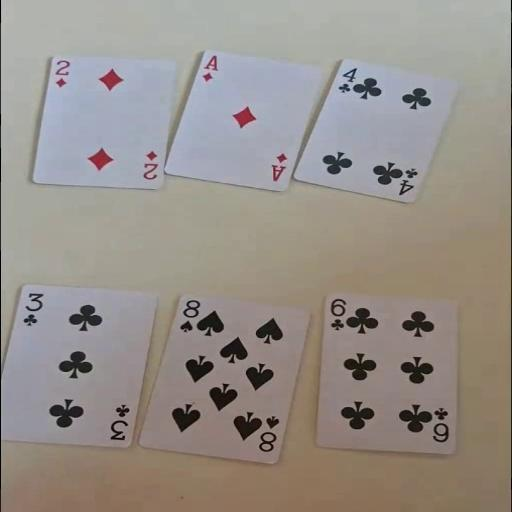2: (140, 148, 159, 180), (52, 58, 71, 88)
3: (107, 402, 131, 441), (20, 290, 45, 327)
4: (396, 166, 420, 196), (336, 66, 358, 93)
6: (430, 406, 450, 443), (328, 296, 348, 332)
8: (256, 414, 282, 452), (176, 298, 202, 333)
A: (269, 151, 290, 182), (199, 53, 219, 82)
